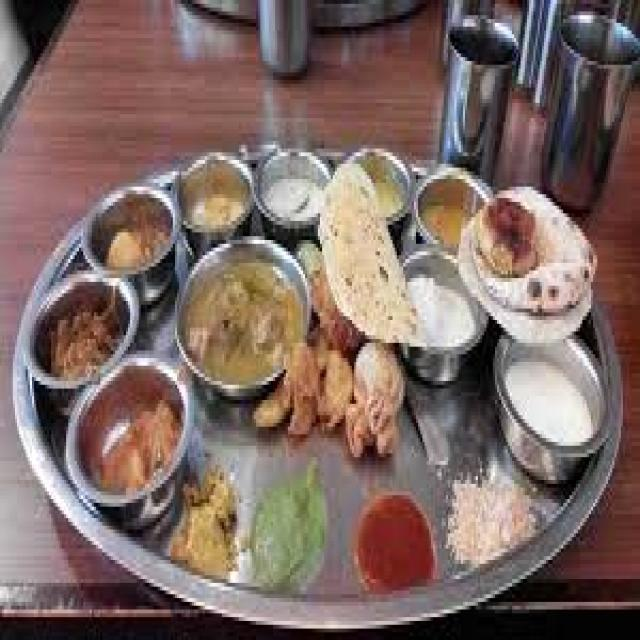curd: (495, 344, 606, 463), (255, 158, 326, 232)
papad: (317, 172, 415, 363)
raita: (493, 339, 612, 460), (407, 271, 481, 366), (258, 158, 324, 231)
roti: (319, 176, 418, 355)
sambar-rasam: (412, 171, 487, 251), (181, 155, 250, 234)
veg-fry: (70, 352, 189, 524), (175, 236, 305, 392), (463, 183, 584, 330), (24, 272, 140, 401), (90, 187, 175, 285)
